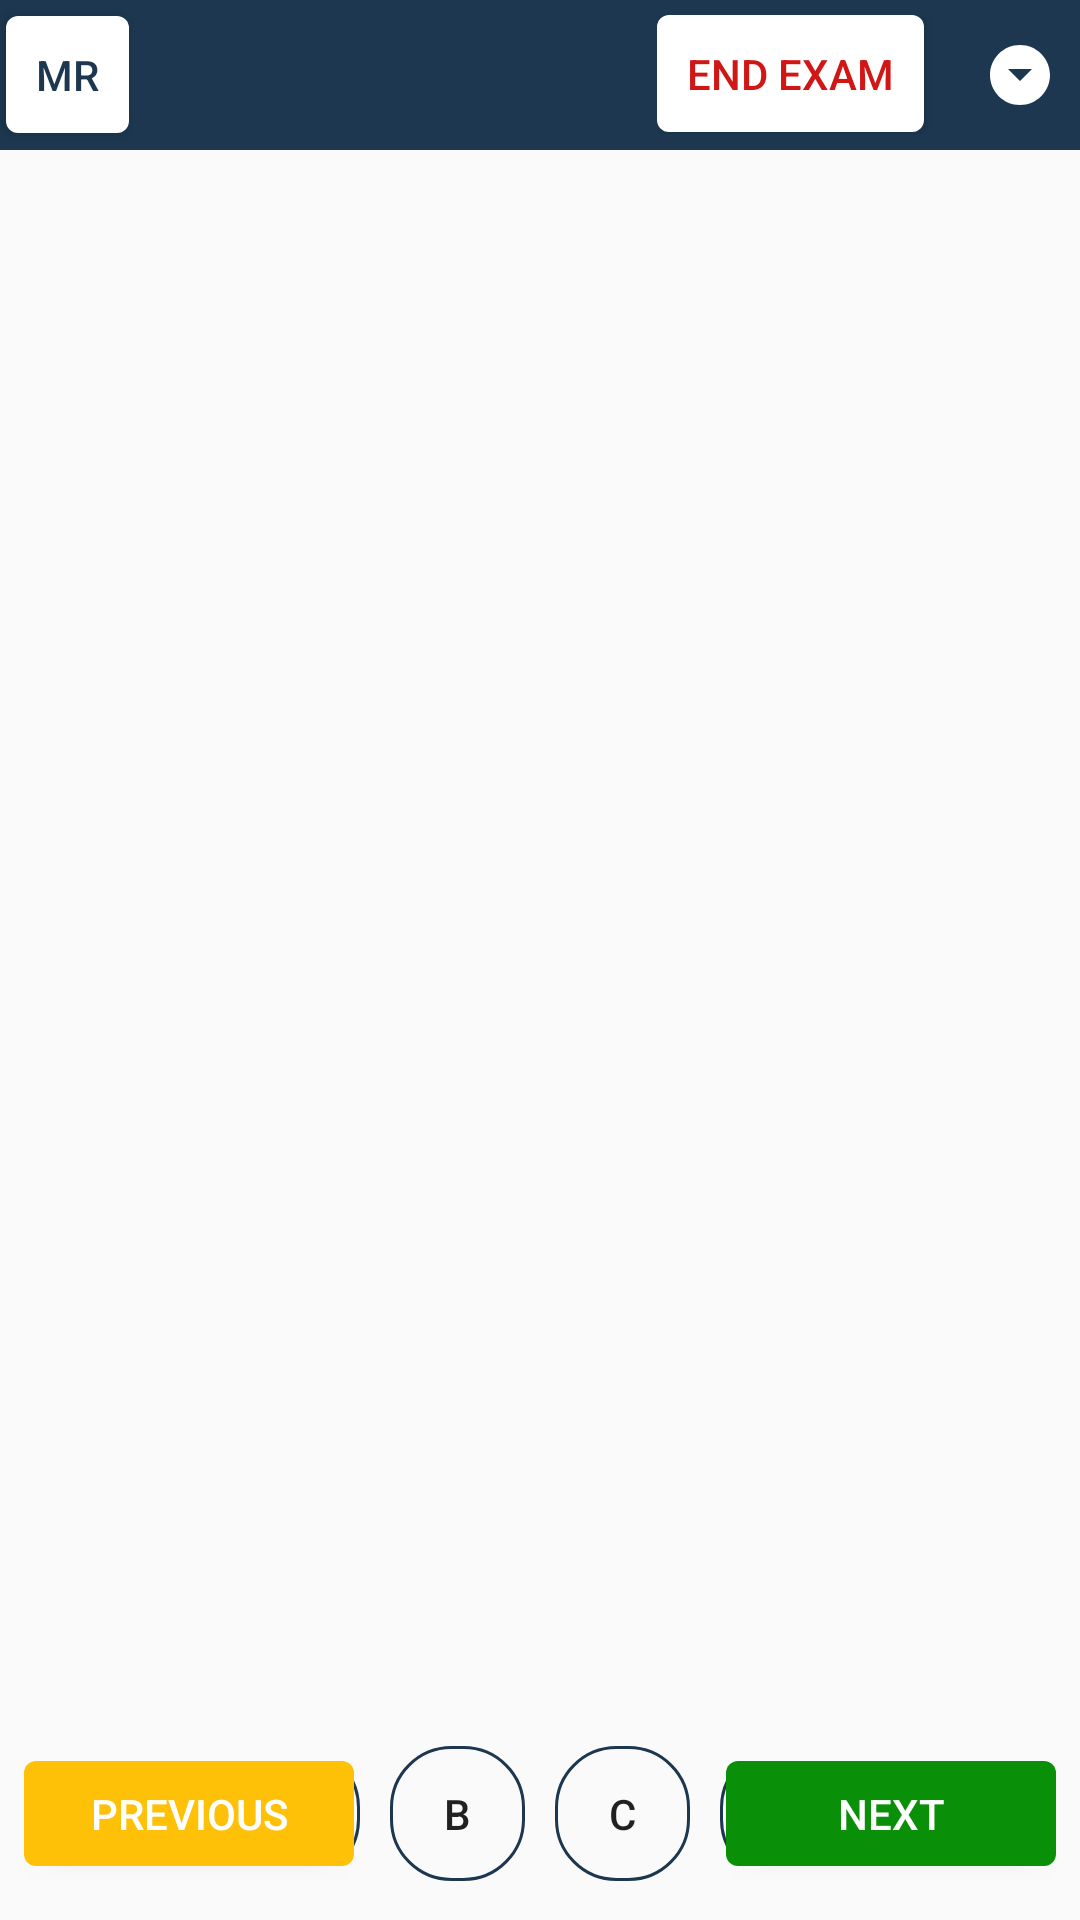

Locate icon controls on the screen. Image size 1080*1920, boxes as detection(x1, y1, x2, y2).
arrow drop: detection(990, 45, 1050, 105)
